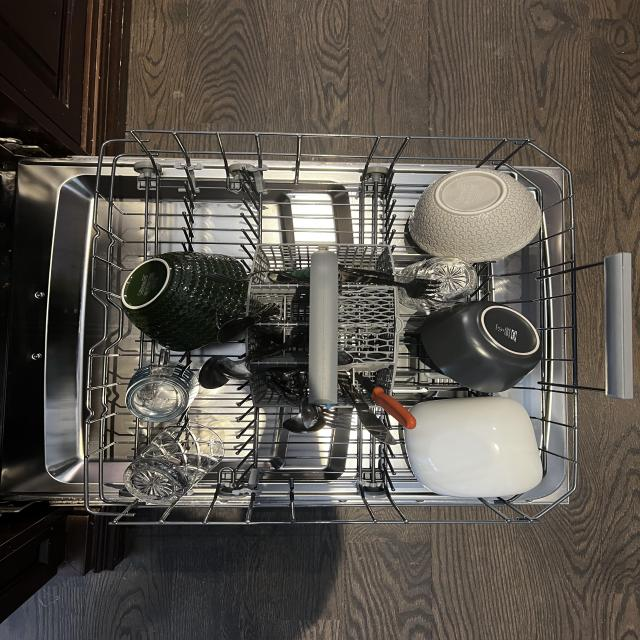Bowl: (403, 396, 546, 498), (120, 249, 248, 354), (408, 165, 545, 263), (421, 298, 545, 394)
Fork: (338, 265, 442, 299), (199, 262, 311, 284), (268, 363, 309, 387), (323, 408, 357, 433)
Glass: (120, 420, 228, 506), (126, 362, 201, 422), (399, 256, 477, 307)
Knife: (338, 370, 398, 445), (349, 370, 416, 430), (340, 256, 453, 282), (216, 302, 280, 344)
Spoon: (197, 331, 308, 390), (215, 332, 284, 382), (283, 403, 323, 434), (299, 402, 319, 429)
